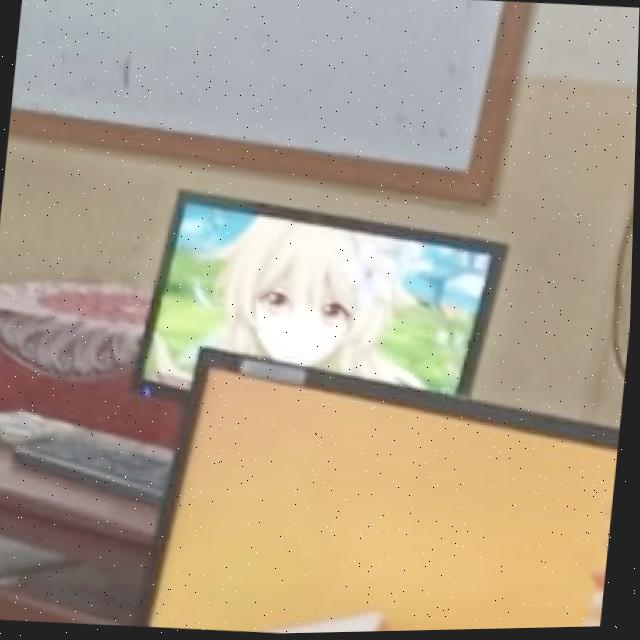onscreen: (157, 350, 622, 633), (140, 193, 507, 395)
